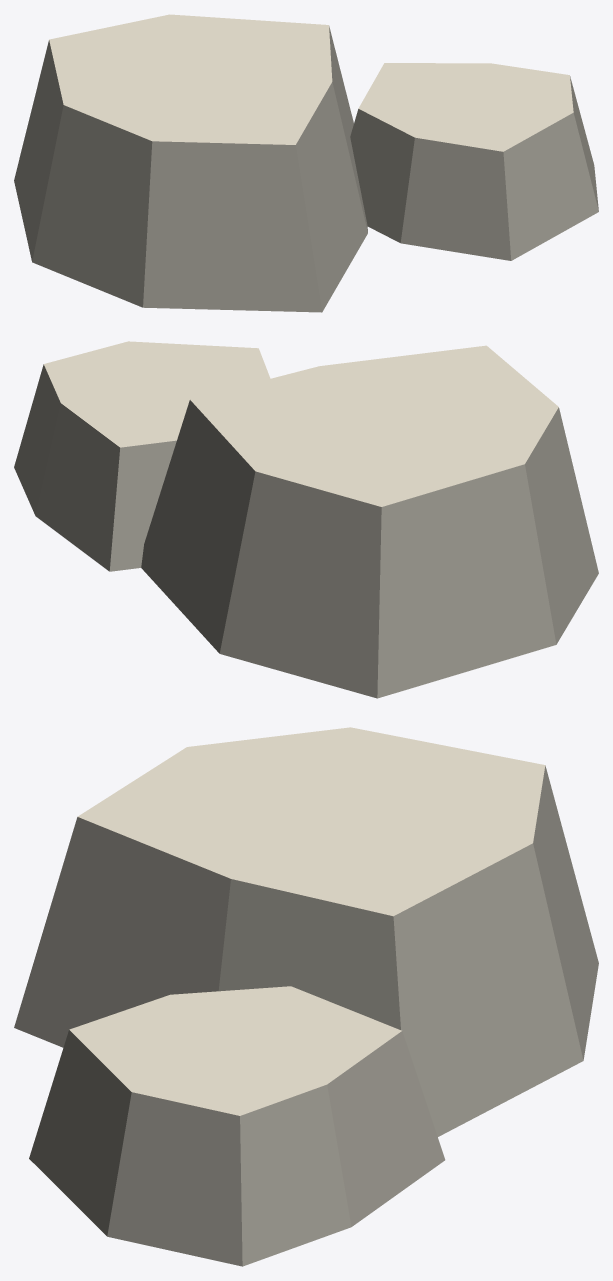
Rendered from bank-stones.glb.
The picture shows the model from 3 angles, top to bottom: view 1: azimuth 30°, elevation 25°; view 2: azimuth 150°, elevation 25°; view 3: azimuth 270°, elevation 25°; orthographic projection. The views are drawn at different scales.
Parts seen in each view (by area): view 1: bank-stones; view 2: bank-stones; view 3: bank-stones.
Part boxes in pixels (x1,y1,x2,y2): bank-stones: [14, 14, 598, 312]; bank-stones: [14, 341, 598, 698]; bank-stones: [14, 727, 598, 1266].
Bounding box in the file's own units: 1.8 × 0.5 × 1.27.
1 material, 1 textured.
